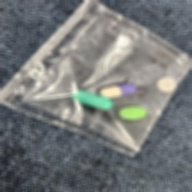러키펜정: (155, 77, 177, 93)
씨엠지세파클러캡슐: (100, 84, 137, 99)
에르도캡슐: (70, 90, 113, 111)
휴티렌정: (118, 106, 147, 121)
